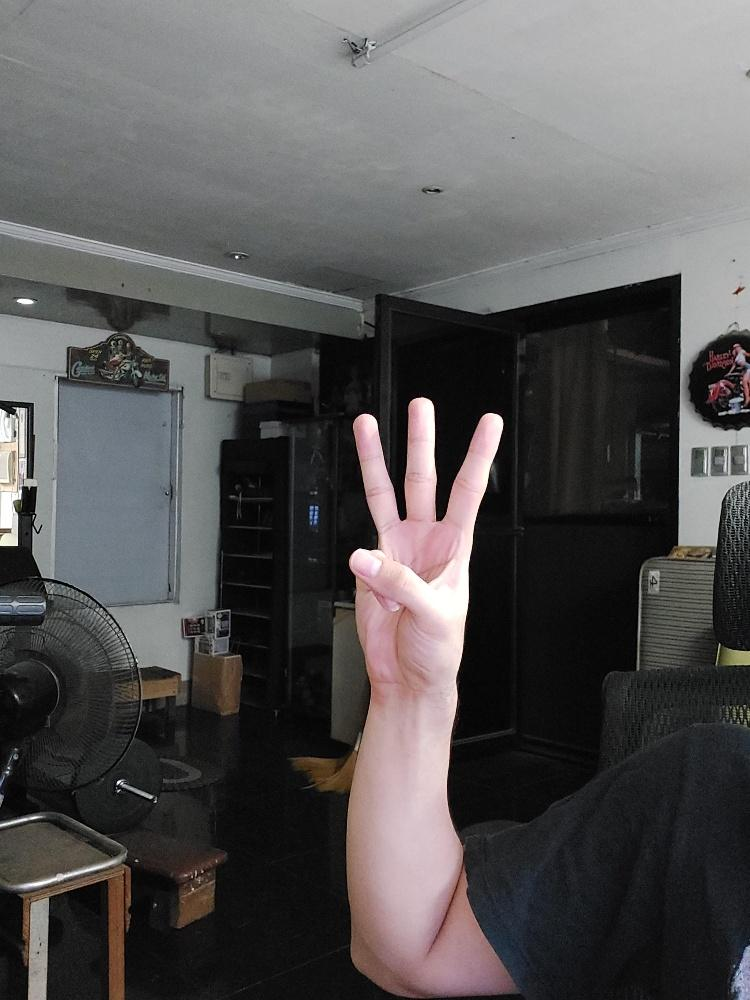w: (347, 395, 503, 689)
